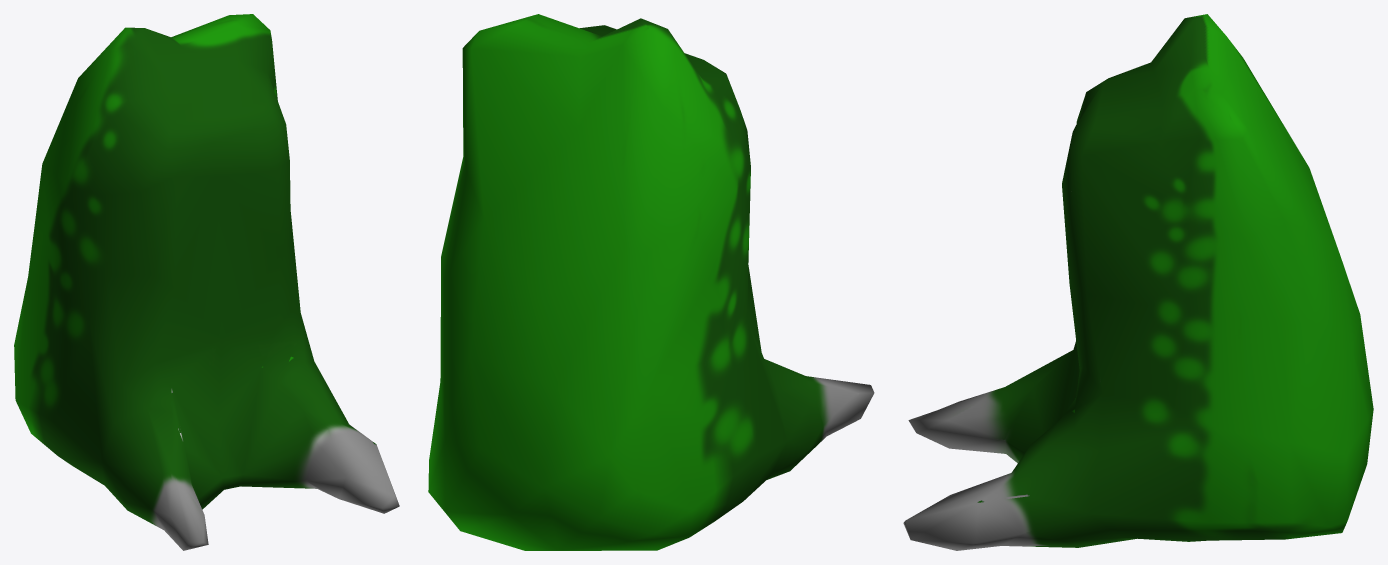
Rendered from pies2D.fbx.
The picture shows the model from 3 angles, left to right: view 1: azimuth 30°, elevation 25°; view 2: azimuth 150°, elevation 25°; view 3: azimuth 270°, elevation 25°; orthographic projection. The views are drawn at different scales.
Visible parts, largest first — view 1: Pies2D; view 2: Pies2D; view 3: Pies2D.
Boxes of the visible parts, bbox=[...] form: Pies2D: bbox=[14, 14, 399, 550]; Pies2D: bbox=[428, 14, 874, 550]; Pies2D: bbox=[903, 14, 1373, 550].
Bounding box in the file's own units: 22.78 × 38.63 × 34.53.
